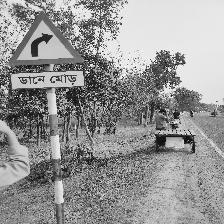Right-turn: (8, 12, 86, 92)
